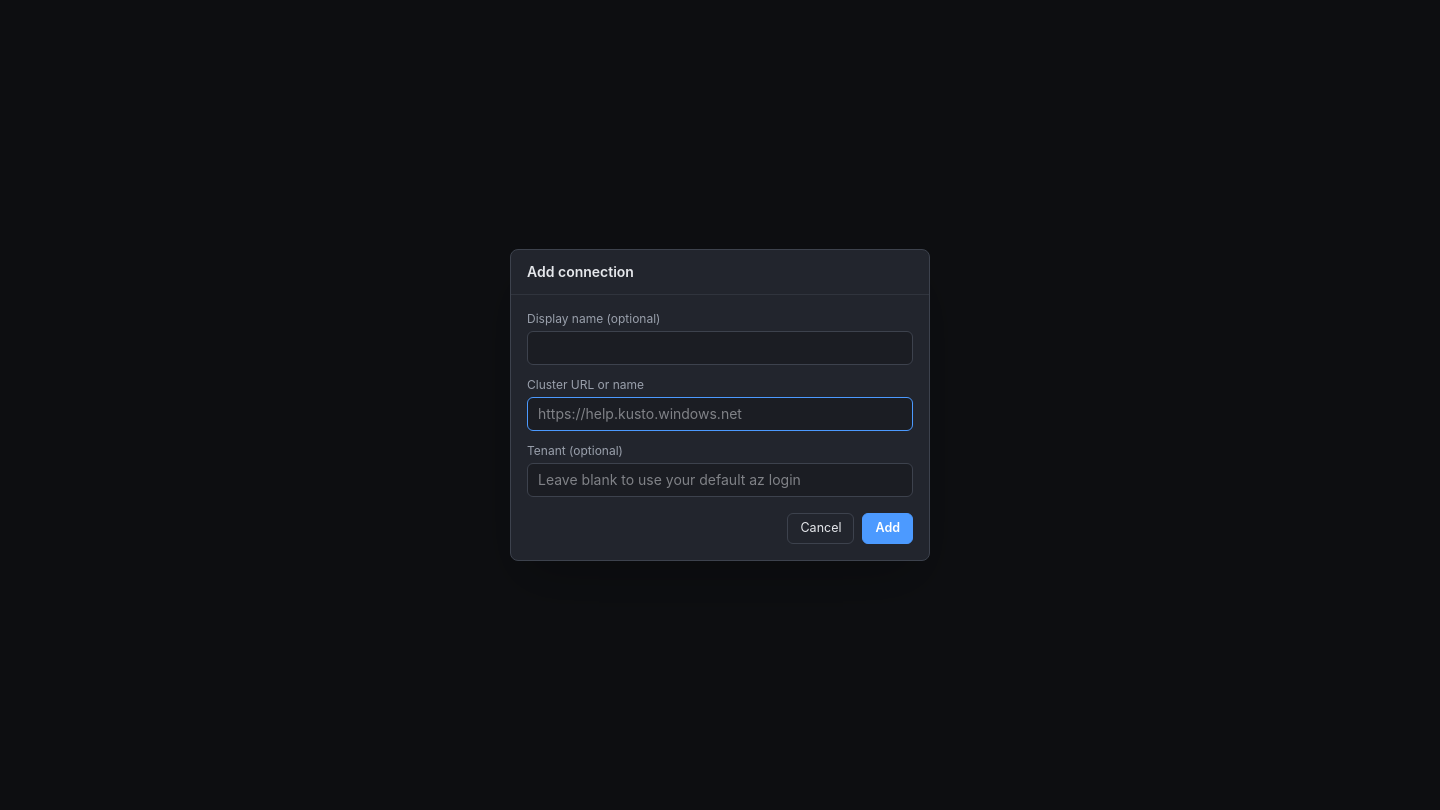
AddConnectionDialog › shows an error for empty input and does not close
Step 1. Click the button "Add" → {"x": 888, "y": 528}, box 862,513 -> 913,544
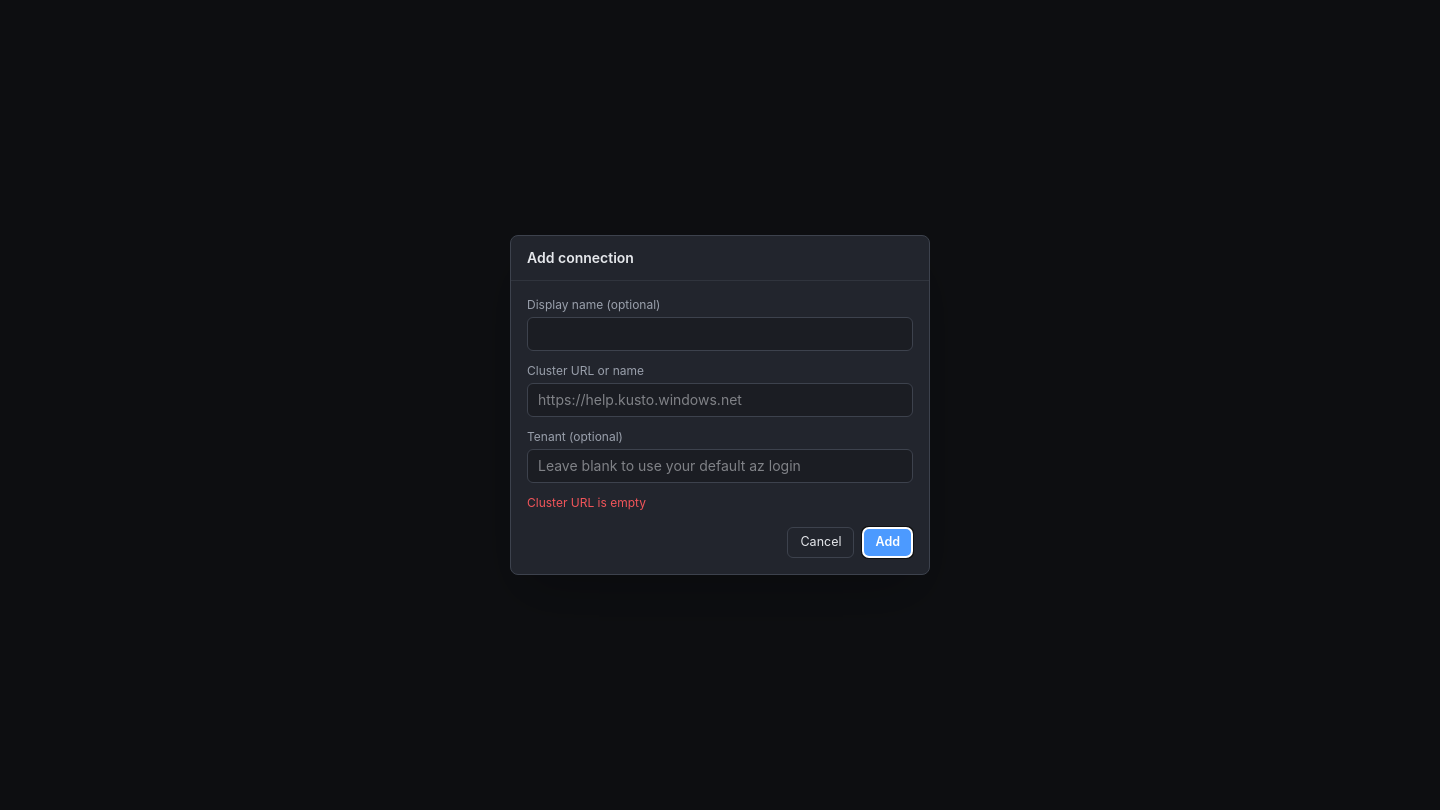
Expected: the text "Cluster URL is empty" is shown, 527,495 -> 646,510
